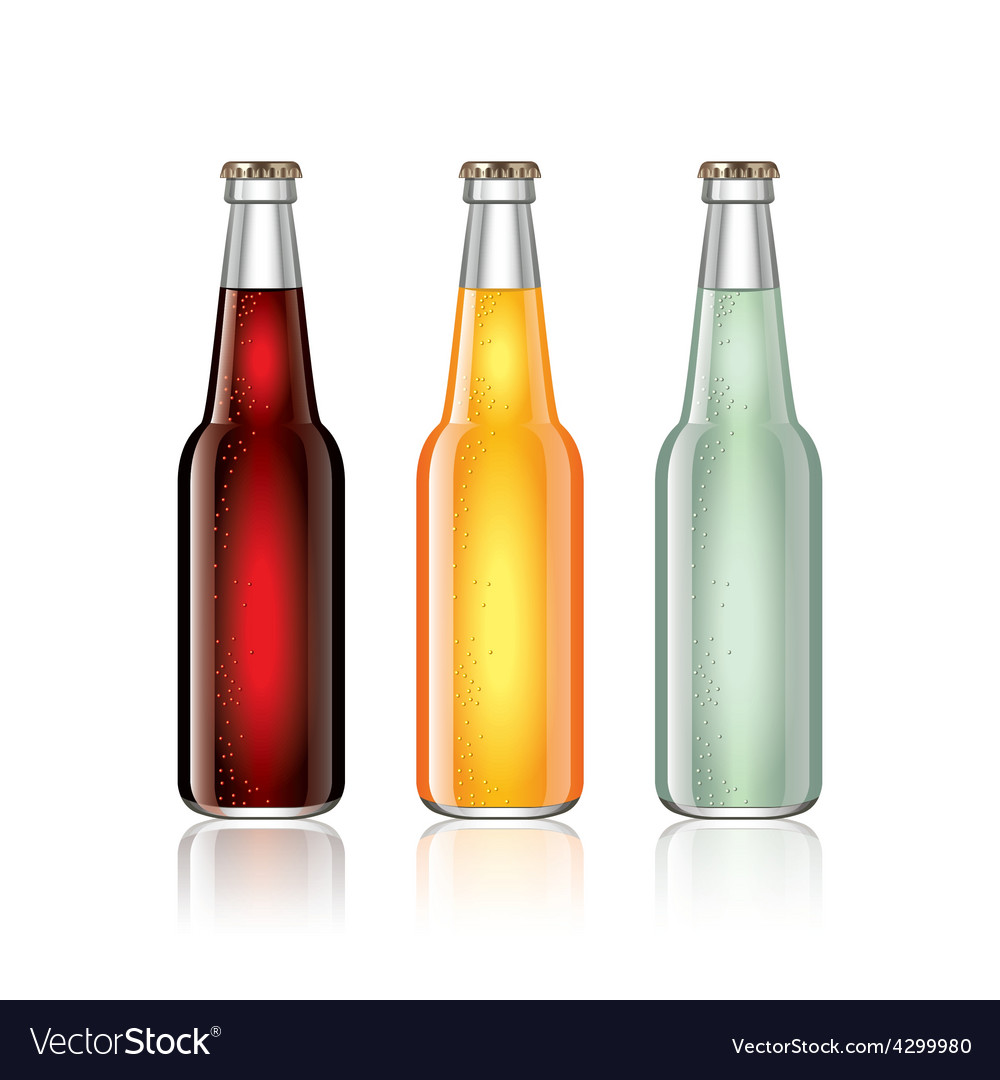Rec_Glass: (624, 150, 839, 841), (168, 149, 359, 829), (403, 141, 584, 830)
